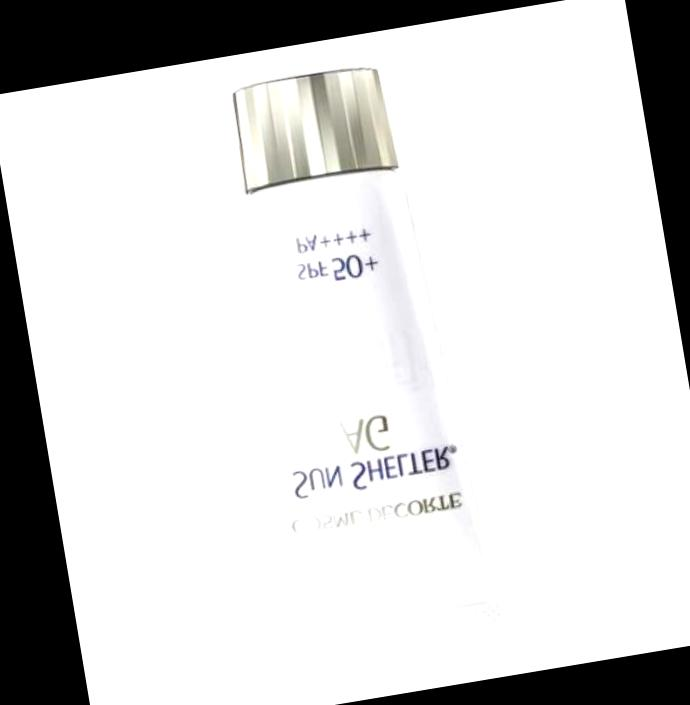cosmetic: (196, 55, 506, 660)
